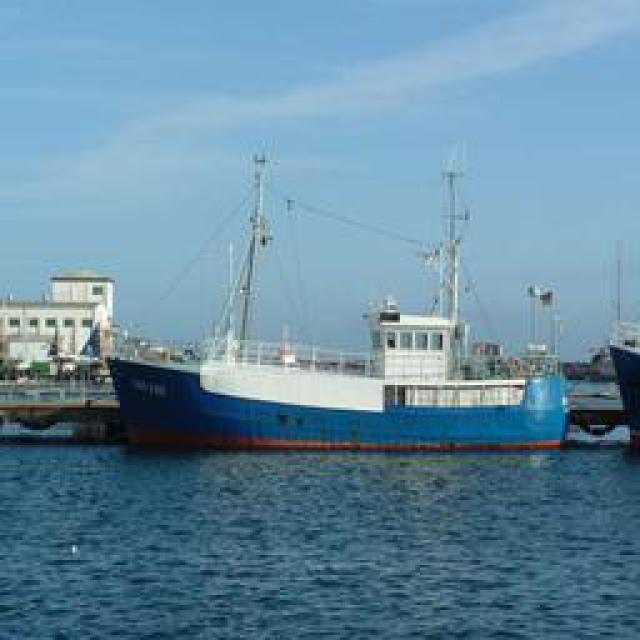Ship: (102, 138, 575, 453)
